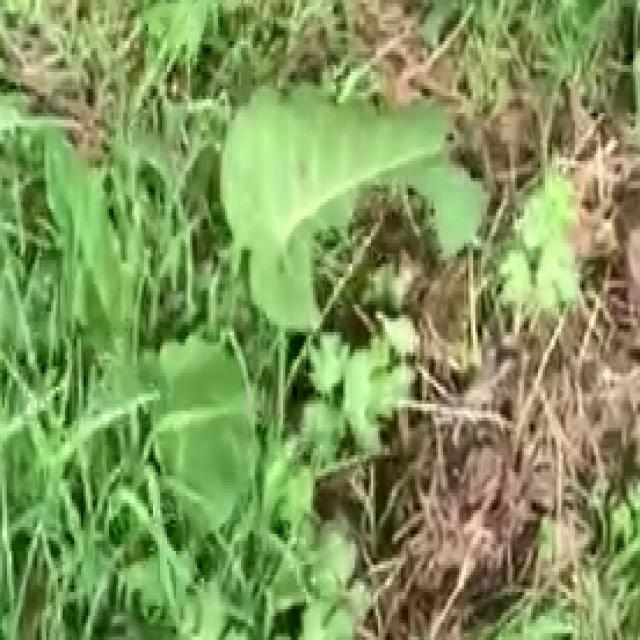organic waste: (32, 89, 482, 572)
